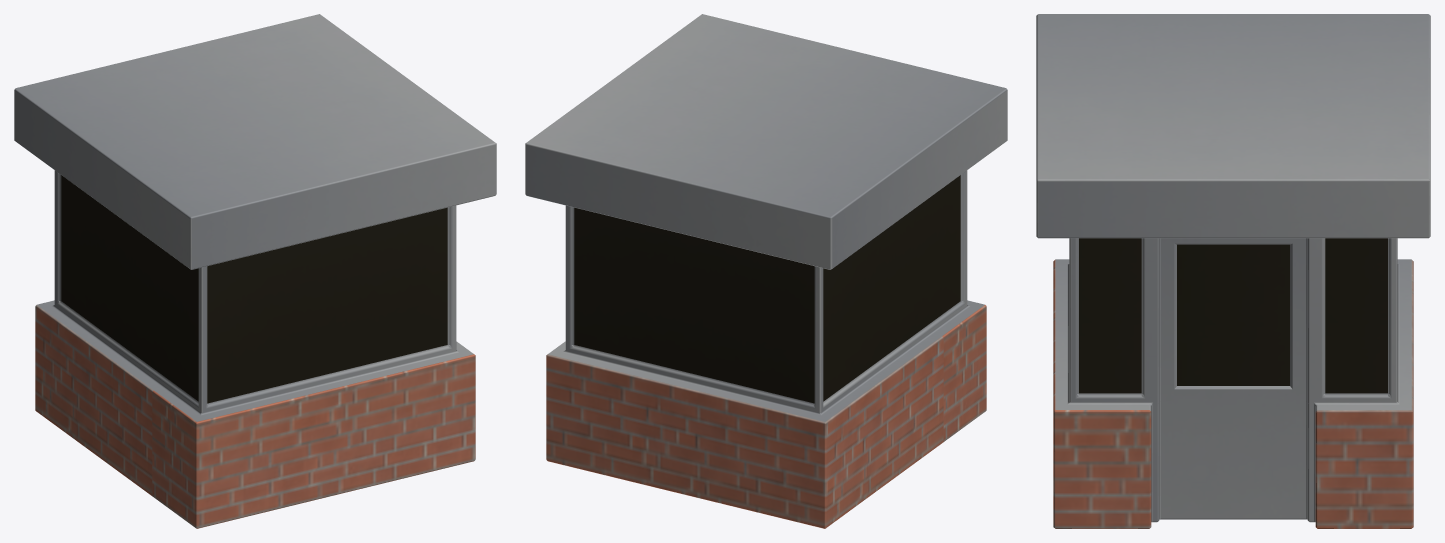
File: hut2.glb
The picture shows the model from 3 angles, left to right: view 1: azimuth 30°, elevation 25°; view 2: azimuth 150°, elevation 25°; view 3: azimuth 270°, elevation 25°; orthographic projection. The views are drawn at different scales.
Parts seen in each view (by area): view 1: Security_Booth; view 2: Security_Booth; view 3: Security_Booth.
Part boxes in pixels (x1=…): Security_Booth: x1=14, y1=14, x2=496, y2=528; Security_Booth: x1=525, y1=14, x2=1007, y2=528; Security_Booth: x1=1036, y1=14, x2=1430, y2=528.
Size of the model in its own units: 3 by 3 by 3.
Materials: 1 (1 with a texture image).
